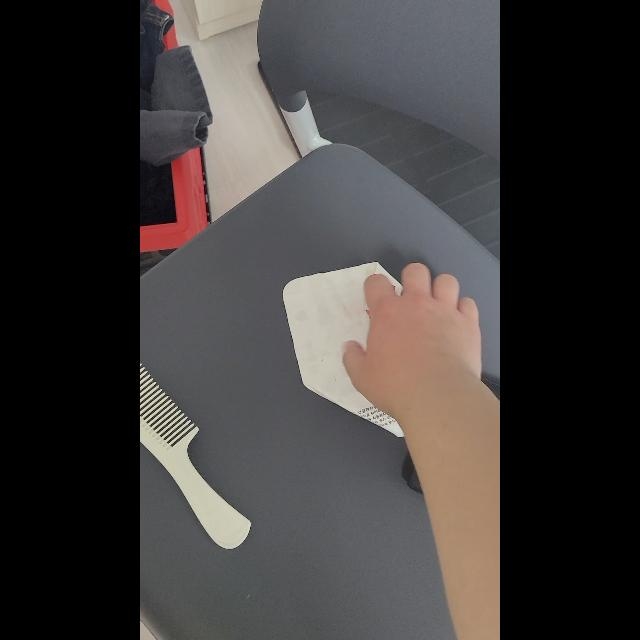COMB: (140, 362, 250, 550)
Glasses cleaning cloth: (283, 261, 403, 437)
